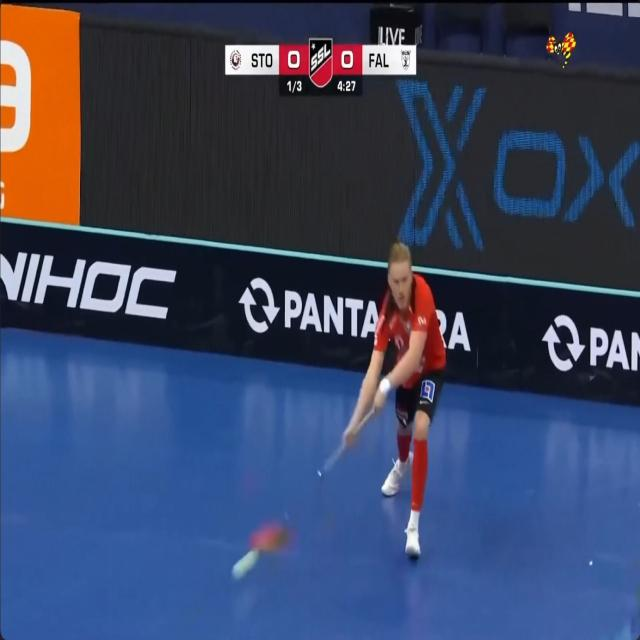Balls: (231, 550, 258, 579)
player: (343, 241, 445, 558)
stick: (318, 442, 345, 477), (356, 407, 374, 431)
